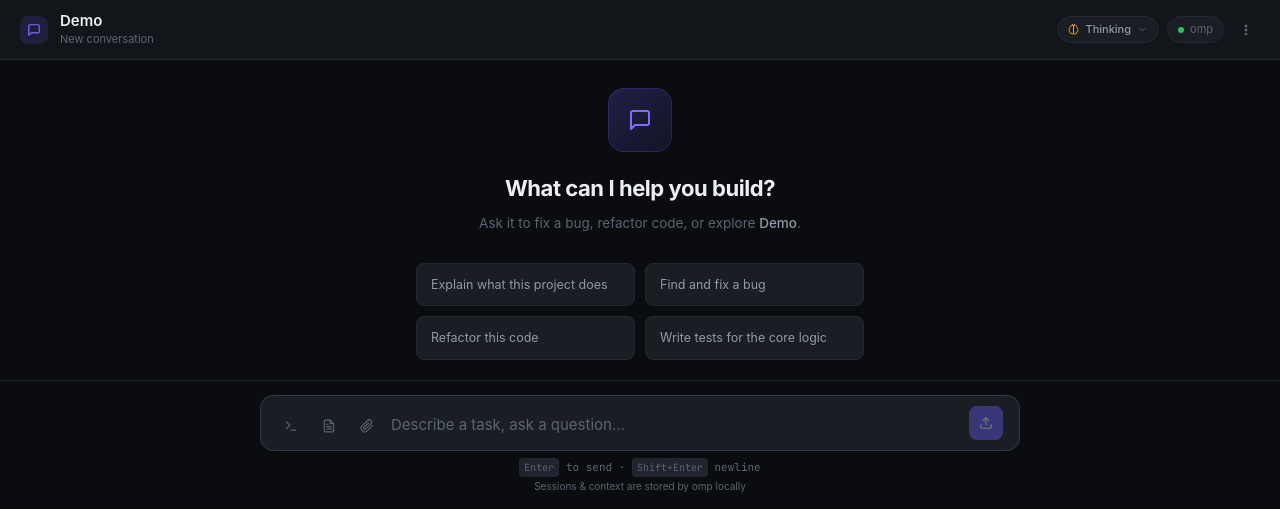
Test: AgentChat › renders thinking deltas (buffered + flushed on the interval)
Type "think test" into the text box with placeholder "Describe a task, ask a question…" at (675, 425), box [391,410,959,440]
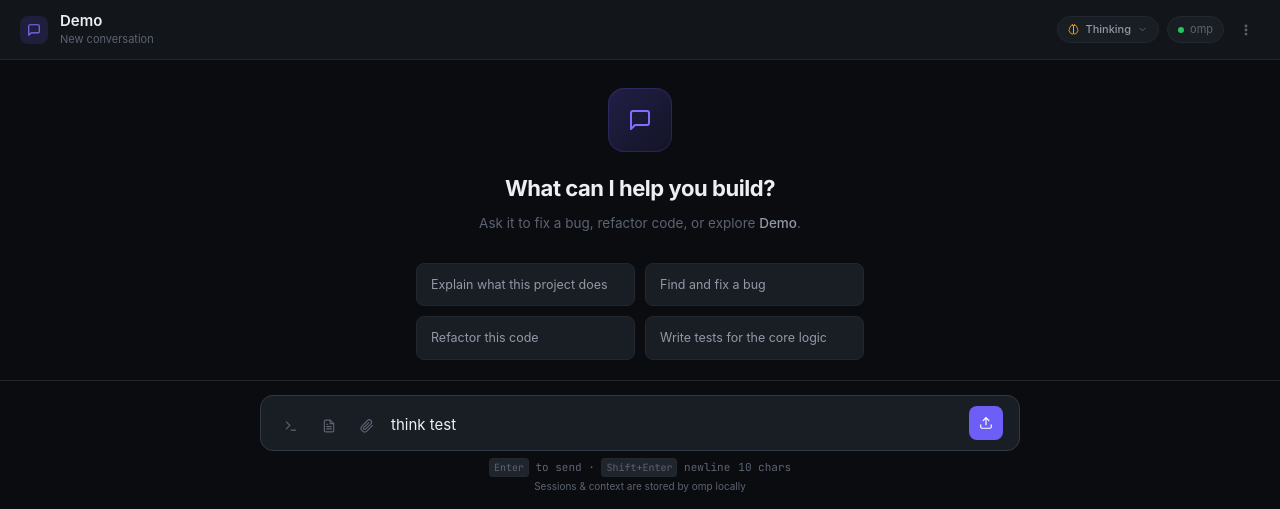
Click the button named "Send message" at (986, 423), box [969,406,1003,440]
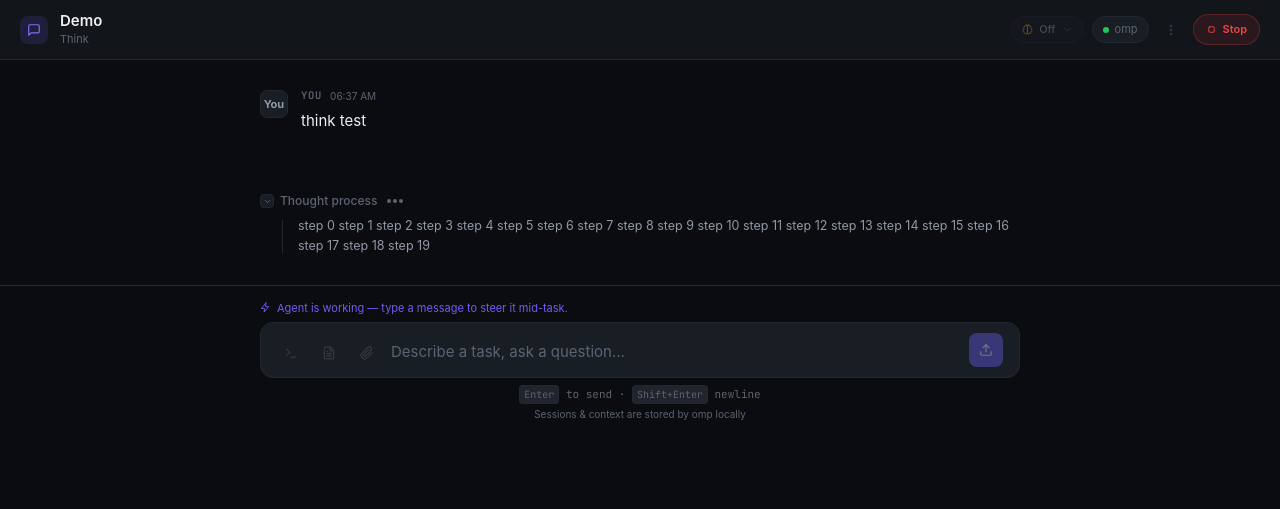
Expected: the text "think test" is shown, [301,111,366,130]
Expected: the text "step 19" is shown, [298,218,1012,253]
// Clicking collapses it to a preview snippet instead of hiding everything
Click the button "Thought process" at (332, 201), box [260,192,403,210]
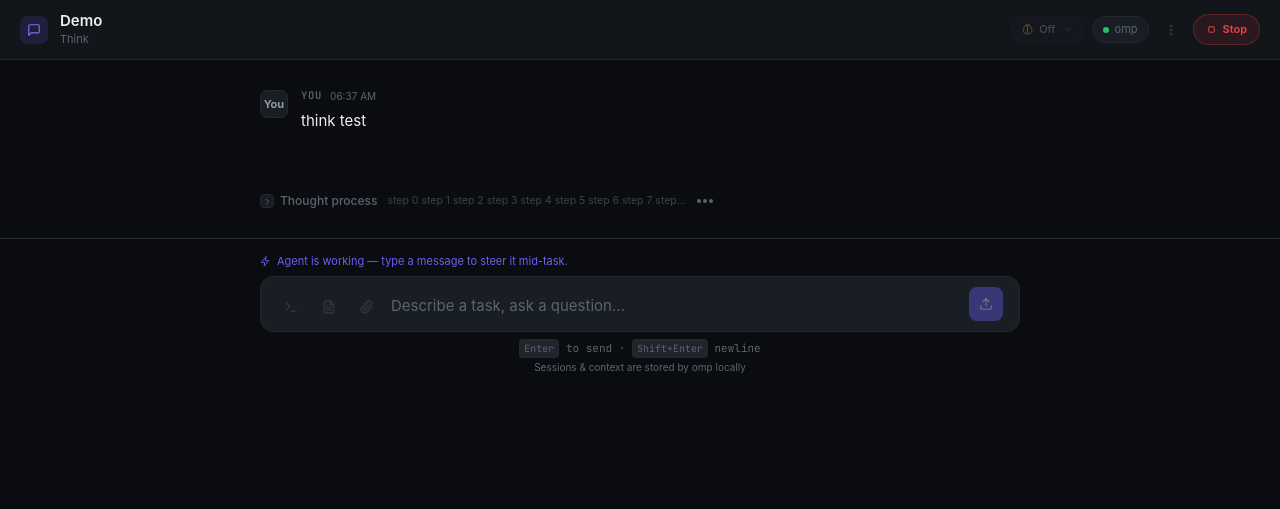
Expected: the text "step 19" is gone
